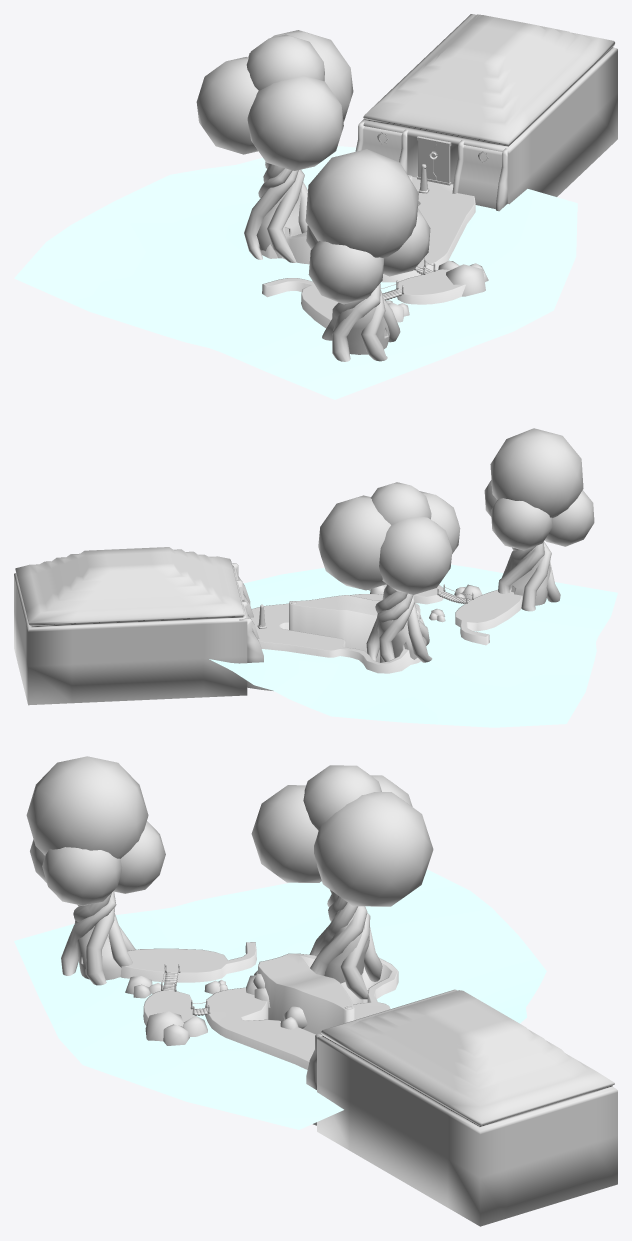
The model's file is Map 1 v5.fbx.
The picture shows the model from 3 angles, top to bottom: view 1: azimuth 30°, elevation 25°; view 2: azimuth 150°, elevation 25°; view 3: azimuth 270°, elevation 25°; orthographic projection. The views are drawn at different scales.
Visible parts, largest first — view 1: Map_1_Sea, Map_1_Temple, Map_1_Kamtree, Map_1_Kamtree_2, Map_1_Ground, Map_1_Kamtree_Roots, Map_1_Kamtree_2_Roots, Map_1_Stone, Map_1_Gate L, Map_1_Gate R; view 2: Map_1_Temple, Map_1_Sea, Map_1_Kamtree, Map_1_Kamtree_2, Map_1_Ground, Map_1_Kamtree_Roots, Map_1_Kamtree_2_Roots, Map_1_Stone; view 3: Map_1_Sea, Map_1_Temple, Map_1_Kamtree, Map_1_Kamtree_2, Map_1_Ground, Map_1_Kamtree_Roots, Map_1_Kamtree_2_Roots, Map_1_Stone.
Boxes of the visible parts, box(x1,y1,x2,y2) form: Map_1_Sea: box(14, 146, 577, 399); Map_1_Temple: box(355, 14, 617, 211); Map_1_Kamtree: box(196, 30, 353, 258); Map_1_Kamtree_2: box(305, 149, 430, 354); Map_1_Ground: box(260, 175, 475, 328); Map_1_Kamtree_Roots: box(244, 161, 307, 262); Map_1_Kamtree_2_Roots: box(322, 283, 400, 361); Map_1_Stone: box(386, 260, 488, 322); Map_1_Gate L: box(433, 140, 451, 185); Map_1_Gate R: box(417, 136, 437, 182); Map_1_Temple: box(14, 547, 263, 705); Map_1_Sea: box(209, 564, 617, 727); Map_1_Kamtree: box(318, 482, 460, 659); Map_1_Kamtree_2: box(484, 428, 594, 605); Map_1_Ground: box(247, 585, 522, 690); Map_1_Kamtree_Roots: box(366, 584, 432, 662); Map_1_Kamtree_2_Roots: box(498, 541, 560, 611); Map_1_Stone: box(368, 584, 482, 624); Map_1_Sea: box(14, 869, 546, 1129); Map_1_Temple: box(306, 989, 617, 1226); Map_1_Kamtree: box(251, 765, 433, 983); Map_1_Kamtree_2: box(26, 756, 165, 980); Map_1_Ground: box(120, 942, 398, 1125); Map_1_Kamtree_Roots: box(309, 890, 382, 999); Map_1_Kamtree_2_Roots: box(61, 891, 135, 985); Map_1_Stone: box(125, 970, 307, 1045).
Size of what is drawn, in the model's own units: 1237 by 477 by 977.
